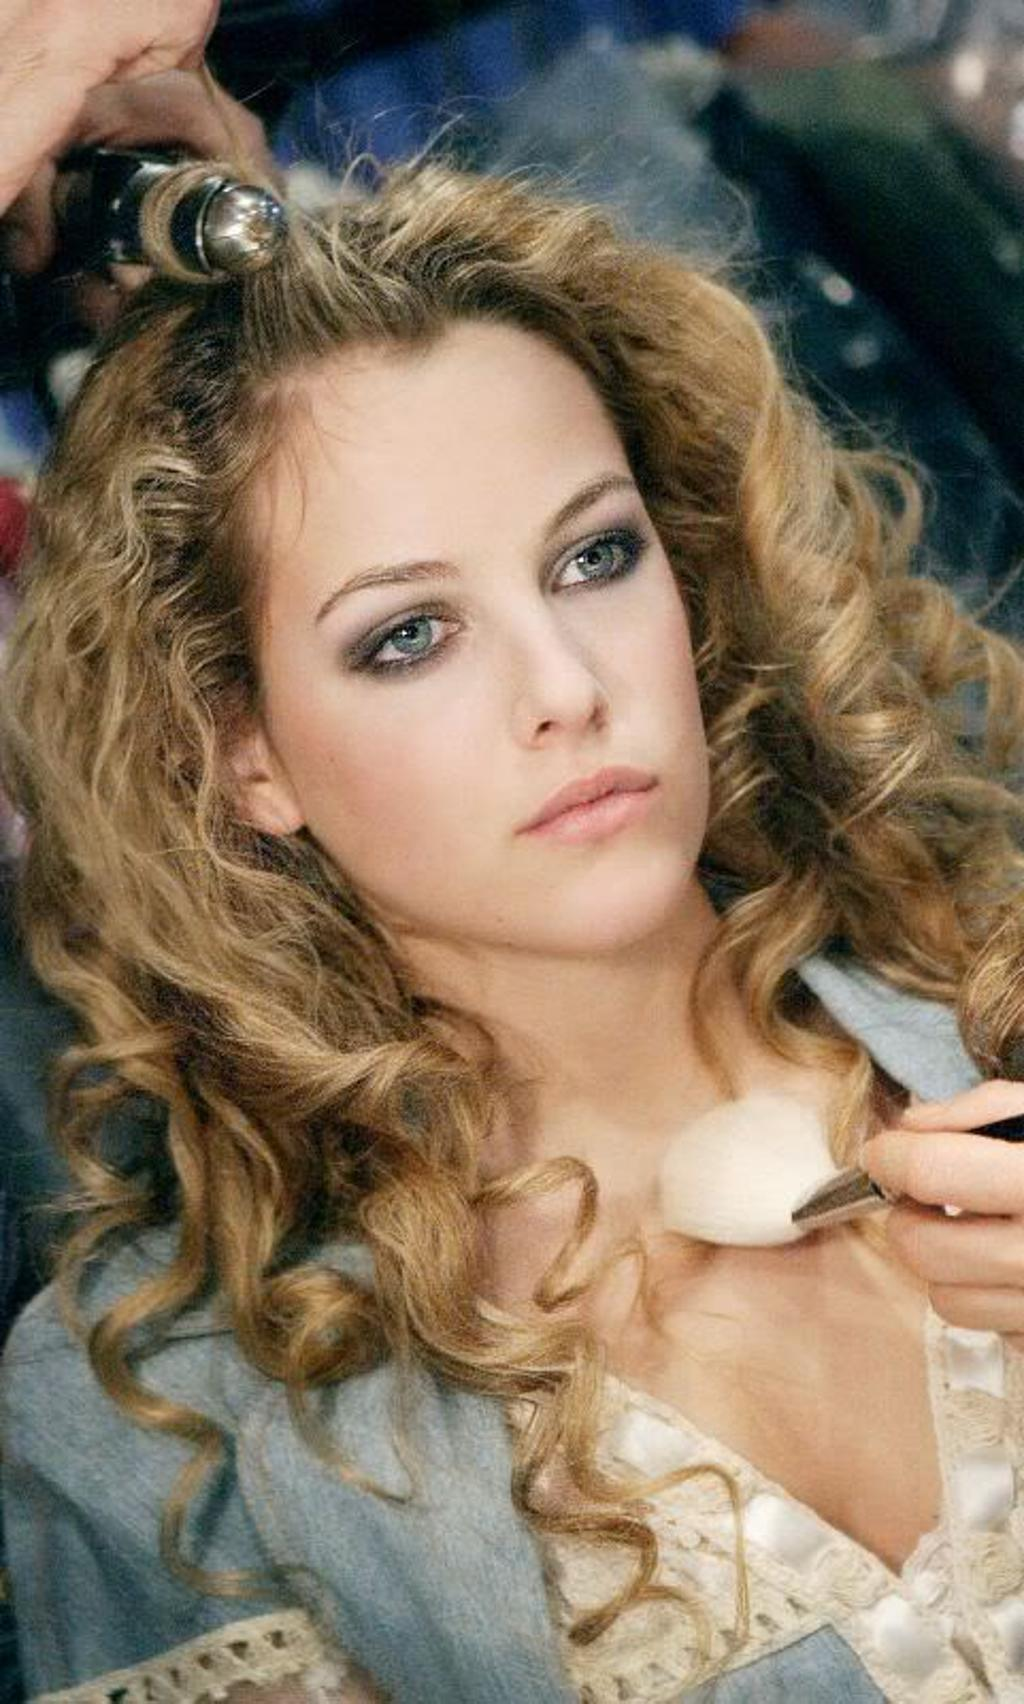face: (249, 319, 704, 944)
